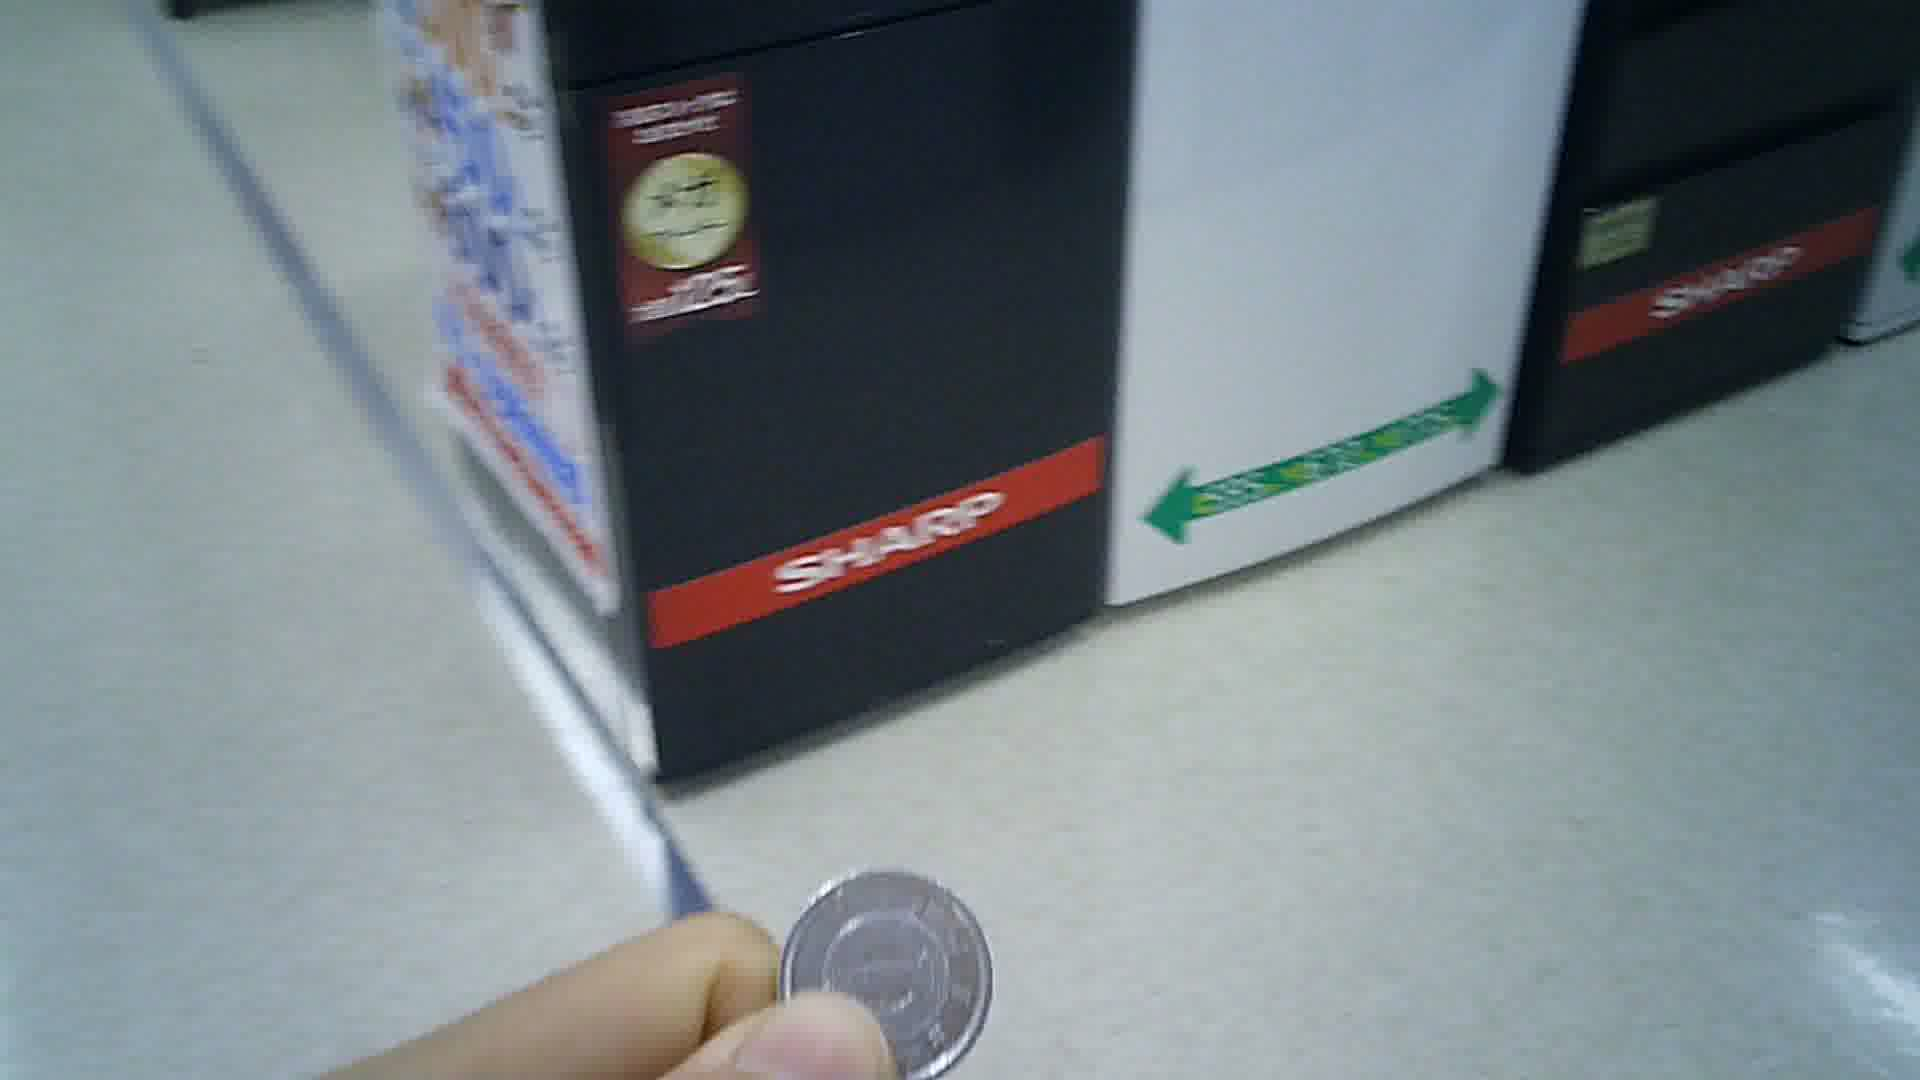1 Yen: (766, 849, 997, 1077)
